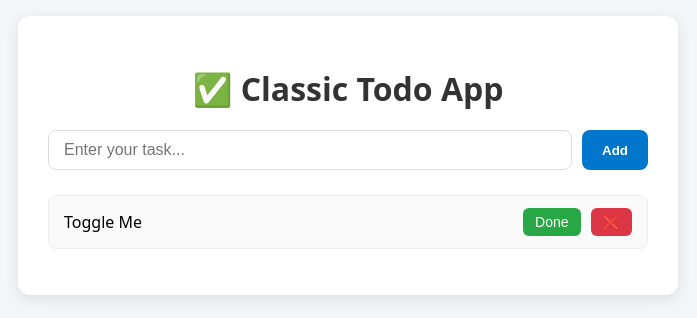
Test case: Todo App Integration Tests › toggles todo completion status
This screenshot has width=697, height=318.
Check: the text "Toggle Me" is shown, box [64,211,142,233]
Wait for "Done" button and click it
Step 1. Click the button "Done" → coordinates (552, 222), box [523,208,581,236]
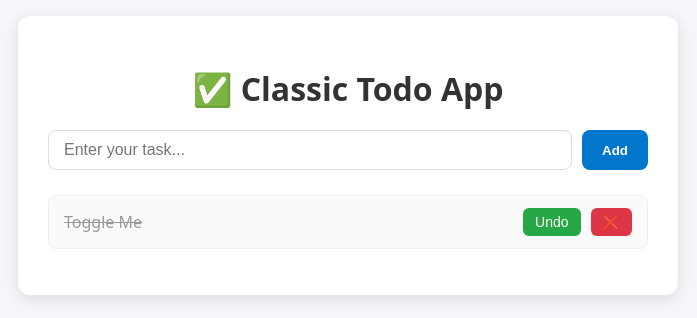
Check: the button "Undo" is shown, box [523,208,581,236]
